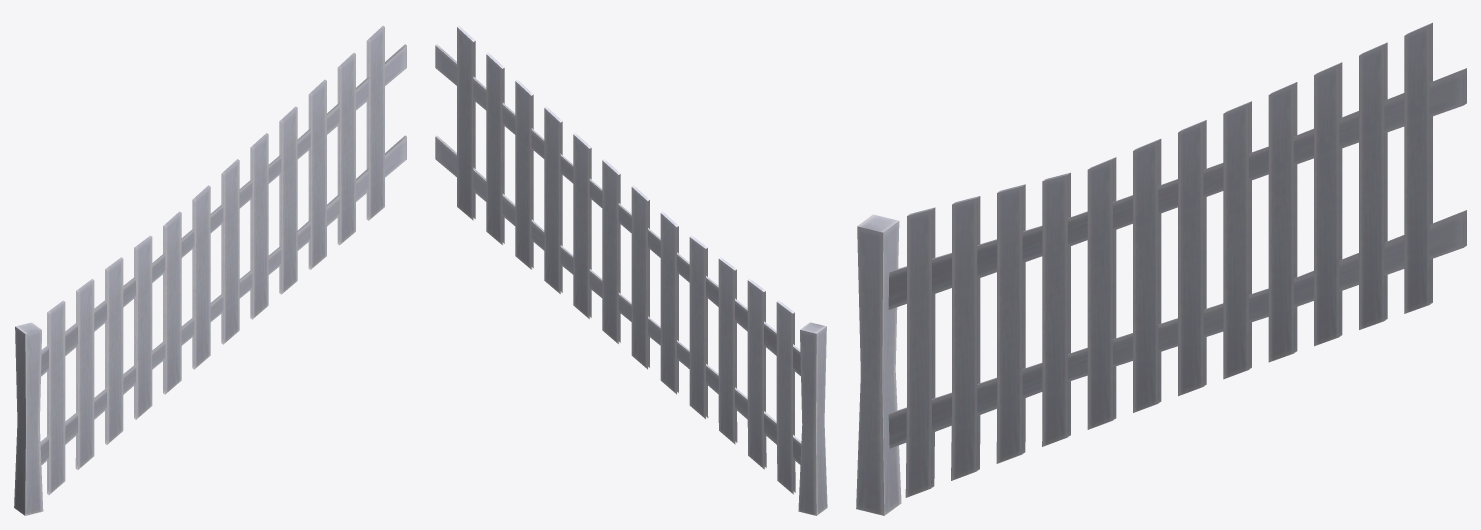
Rendered from INST_HTOWN_FENCEWHT30DEG.fbx.
3 views of the same model, side by side, from view 1: azimuth 30°, elevation 25°; view 2: azimuth 150°, elevation 25°; view 3: azimuth 330°, elevation 25° (orthographic). The views are drawn at different scales.
Visible parts, largest first — view 1: INST_HTOWN_FENCEWHT30DEG; view 2: INST_HTOWN_FENCEWHT30DEG; view 3: INST_HTOWN_FENCEWHT30DEG.
Boxes of the visible parts, x1,y1,x2,y2 form: INST_HTOWN_FENCEWHT30DEG: (14, 26, 406, 515); INST_HTOWN_FENCEWHT30DEG: (435, 26, 827, 515); INST_HTOWN_FENCEWHT30DEG: (856, 22, 1466, 515).
Bounding box in the file's own units: 30448 × 30538 × 1509.
2 materials, 2 textured.
